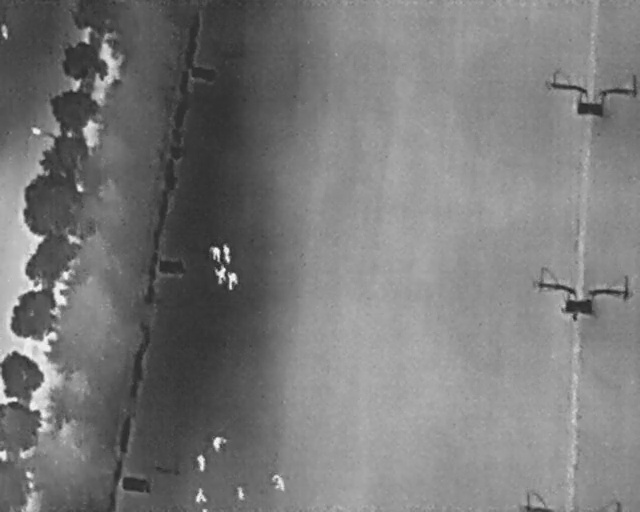Person: (270, 472, 286, 495), (210, 434, 227, 453), (221, 242, 233, 264), (209, 244, 222, 264), (226, 272, 239, 292), (213, 267, 227, 285), (194, 487, 208, 503), (196, 454, 206, 474), (236, 484, 247, 502)
